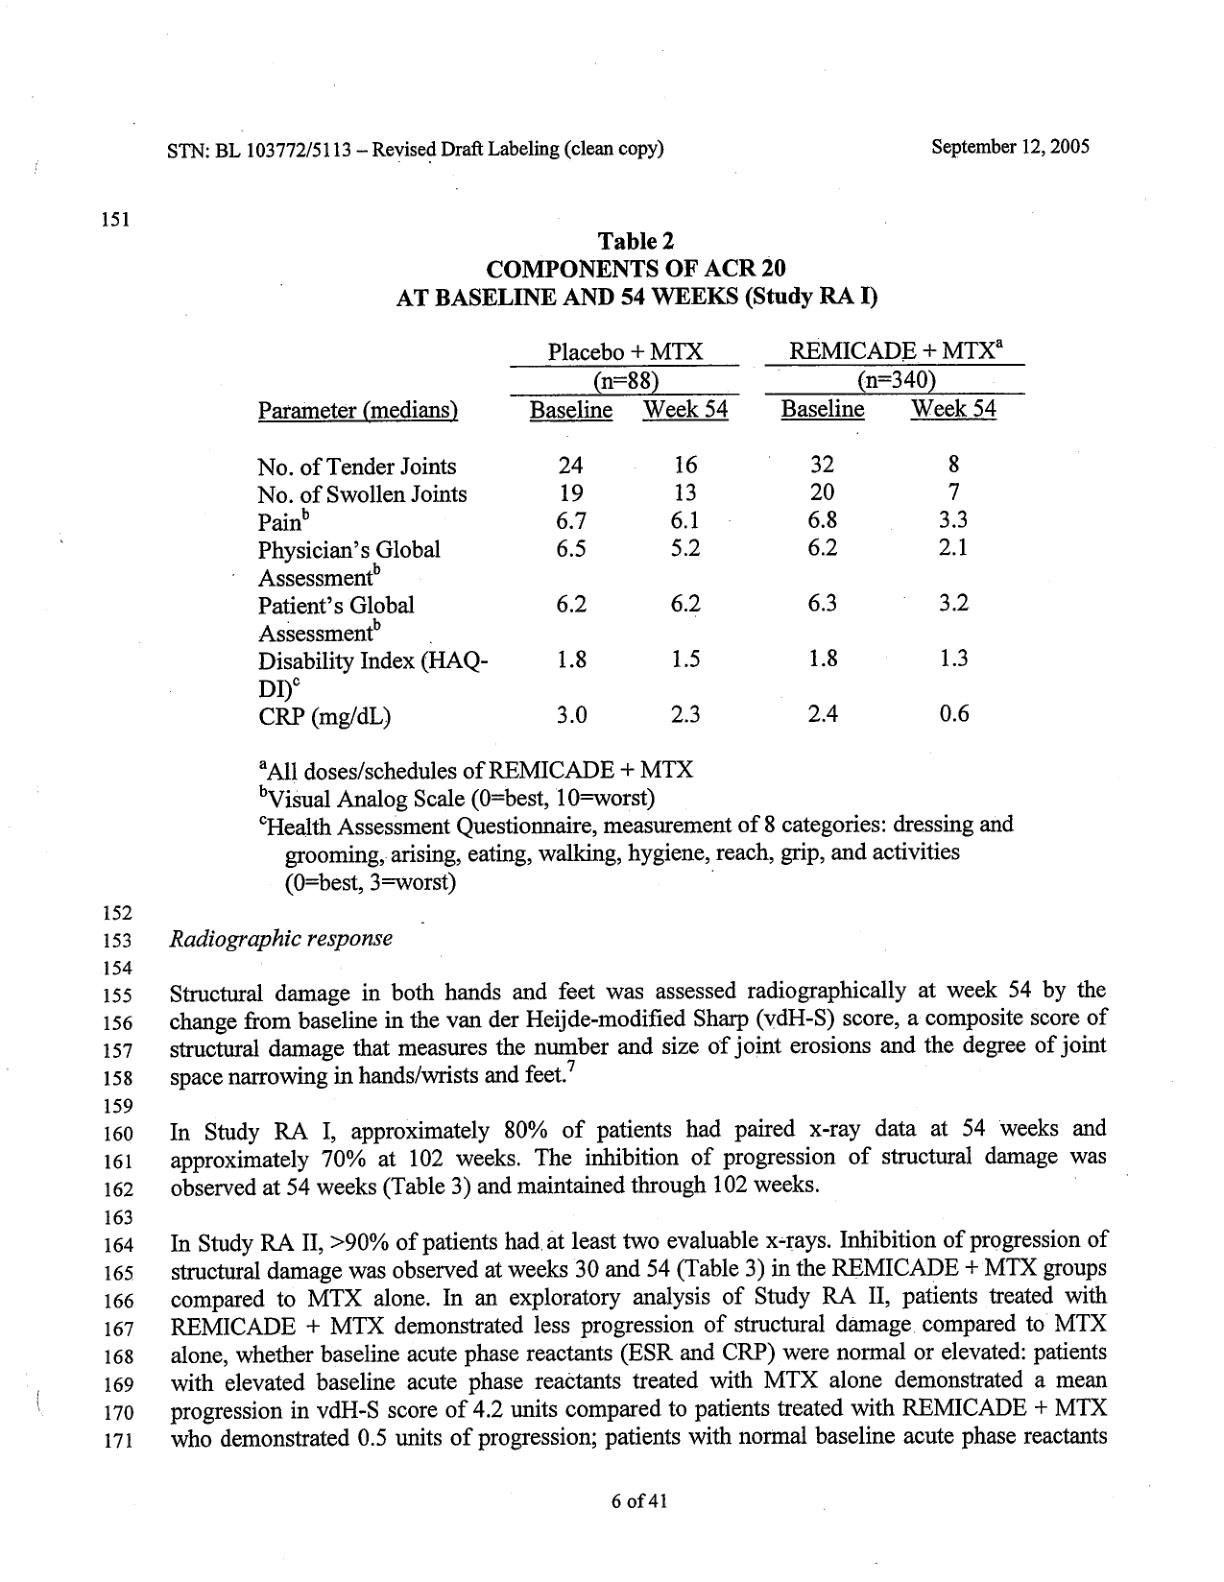nolines: (254, 340, 1026, 729)
